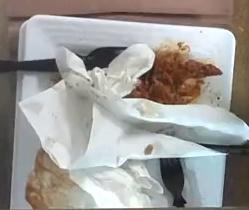curry: (127, 43, 222, 104)
